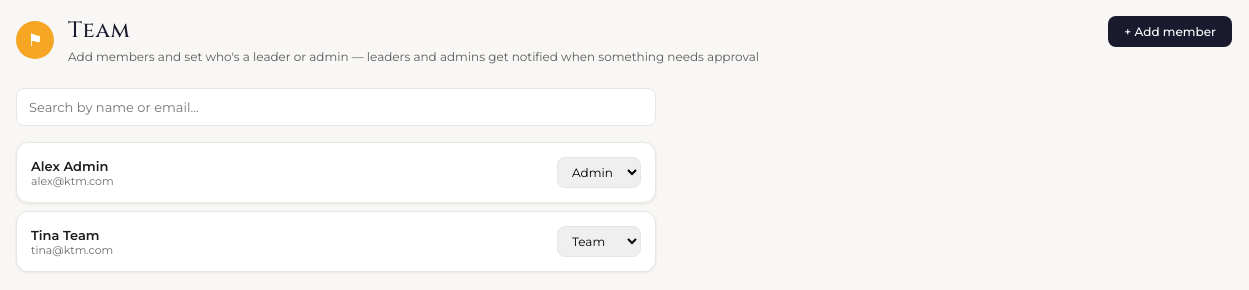
Scenario: searches the roster by name or email
Expected: the text "Alex Admin" is shown, [31,158,114,174]
Expected: the text "Tina Team" is shown, [31,226,100,242]
Step 1. Type "tina" into the field with placeholder "Search by name or email..." → (336, 107), box [16,88,656,126]
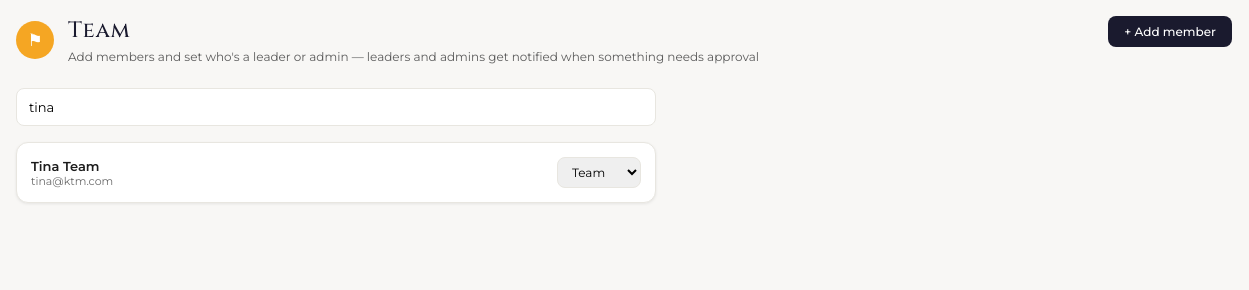
Expected: the text "Tina Team" is shown, [31,158,100,174]
Result: the text "Alex Admin" is gone
